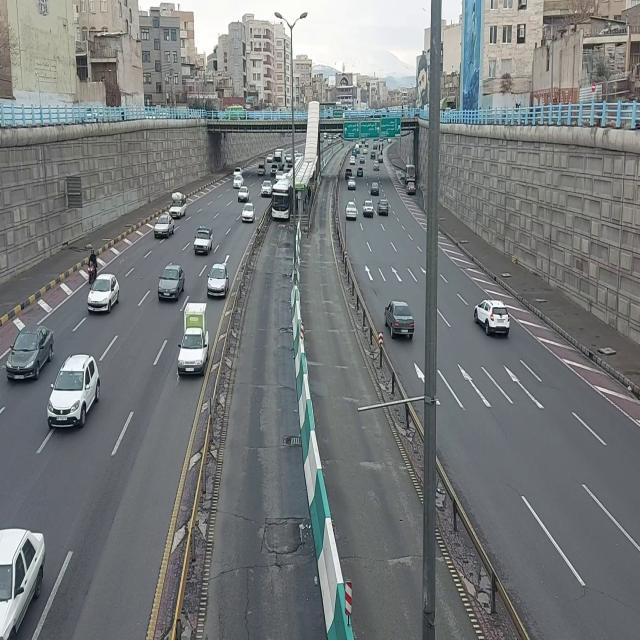Bus: (270, 177, 292, 221)
Car: (47, 352, 102, 434), (6, 322, 55, 384), (474, 297, 512, 339), (86, 271, 120, 314), (384, 300, 416, 344), (157, 260, 187, 302), (206, 260, 230, 300), (154, 212, 177, 239), (346, 201, 358, 222), (362, 199, 374, 220), (377, 197, 389, 218)
Pickup: (177, 302, 211, 382), (193, 224, 214, 256), (168, 191, 188, 220)
